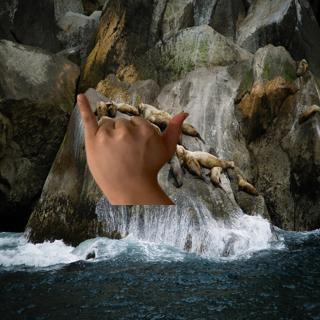HAVE: (70, 88, 190, 192)
